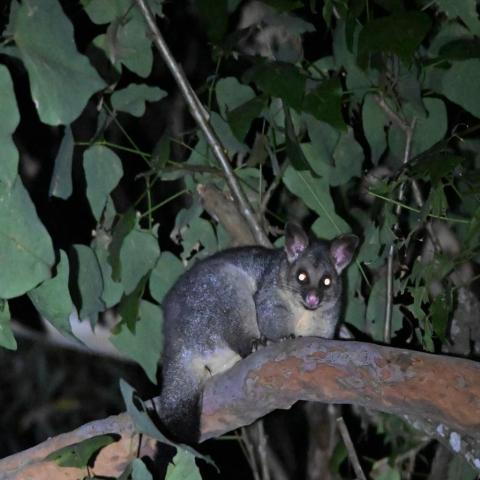small_animal: (156, 220, 360, 441)
